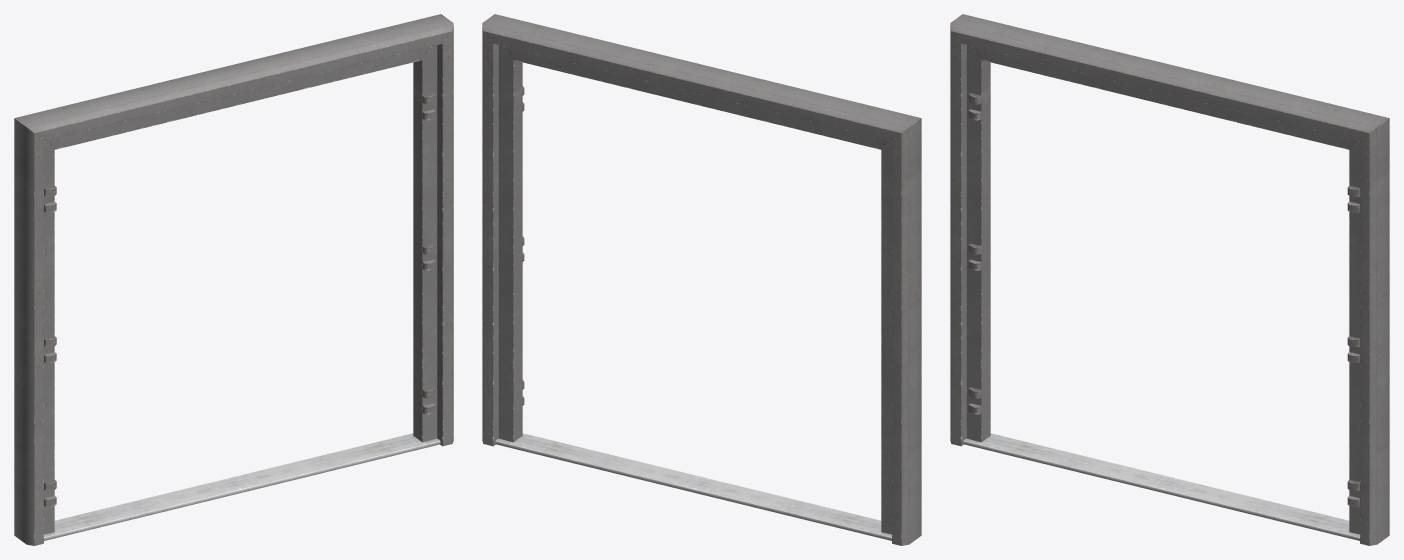
File: SM_Metal_Door_Frame_Double_01a.glb
3 views of the same model, side by side, from view 1: azimuth 30°, elevation 25°; view 2: azimuth 150°, elevation 25°; view 3: azimuth 330°, elevation 25° (orthographic).
Parts seen in each view (by area): view 1: SM_Metal_Door_Frame_Double_01a; view 2: SM_Metal_Door_Frame_Double_01a; view 3: SM_Metal_Door_Frame_Double_01a.
Boxes of the visible parts, box(x1,y1,x2,y2) form: SM_Metal_Door_Frame_Double_01a: box(14, 14, 453, 545); SM_Metal_Door_Frame_Double_01a: box(482, 14, 921, 545); SM_Metal_Door_Frame_Double_01a: box(950, 14, 1389, 545).
Bounding box in the file's own units: 2.43 × 2.27 × 0.1877.
Materials: 1 (1 with a texture image).
